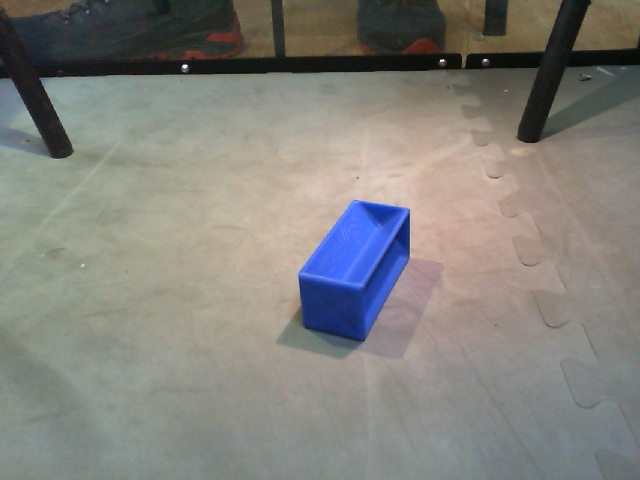BlueSample: (297, 197, 413, 350)
